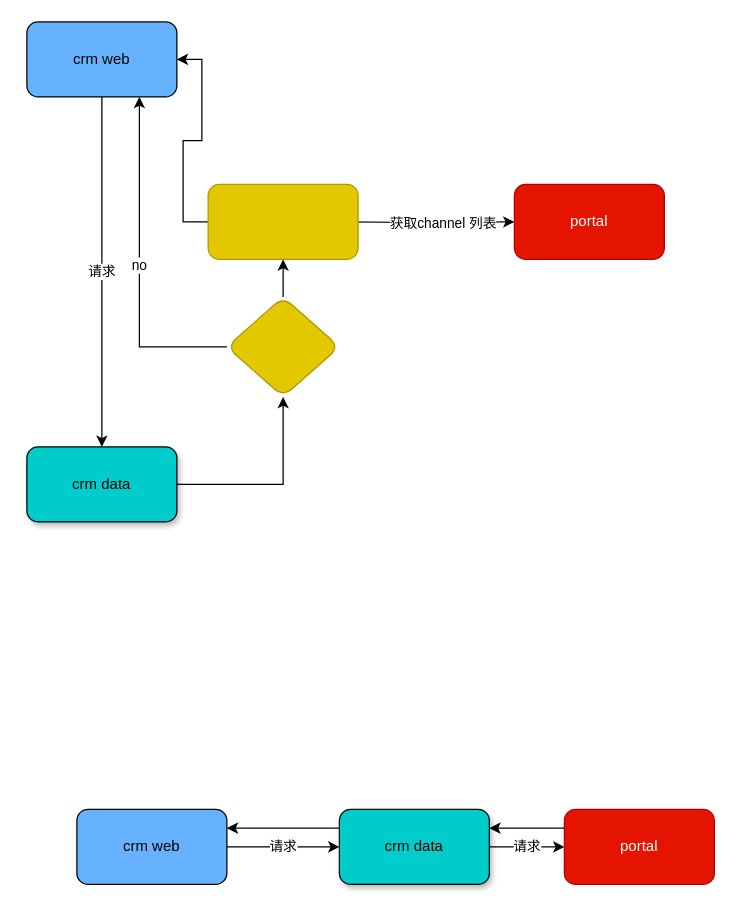
Image size: 736x915. Some labels were removed from this diagram. The centre of each missing label's shape, as x and y in pixels:
组装channelName: point (282, 221)
需要channeName: point (282, 346)
